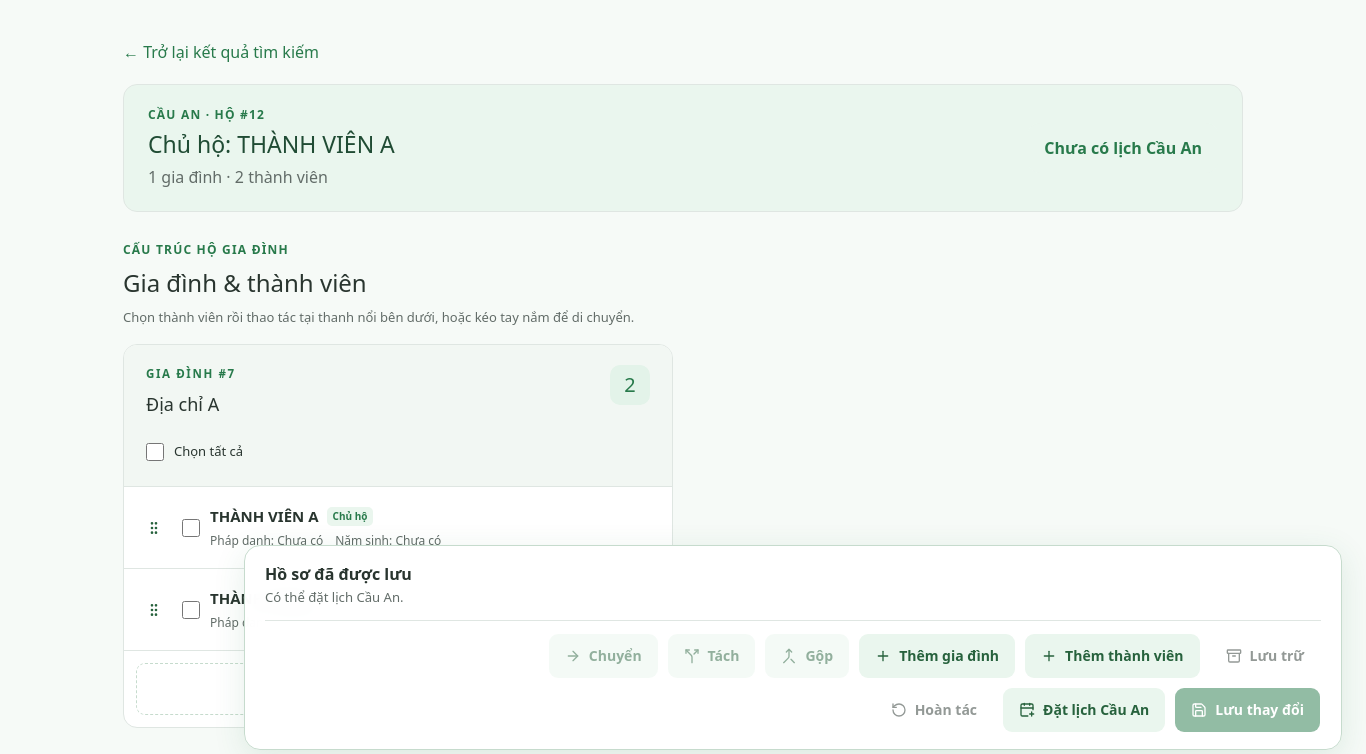
Scenario: HouseholdDetailWorkspace › opens contextual add-family form only from the dock and gates booking after edits
Expected: the heading "Chủ hộ: THÀNH VIÊN A" is shown, x1=148 y1=127 x2=395 y2=162
Expected: the field labelled "Địa chỉ gia đình mới" is not shown
Step 1. Click the button "Thêm gia đình" → (937, 656), box x1=858 y1=633 x2=1016 y2=679
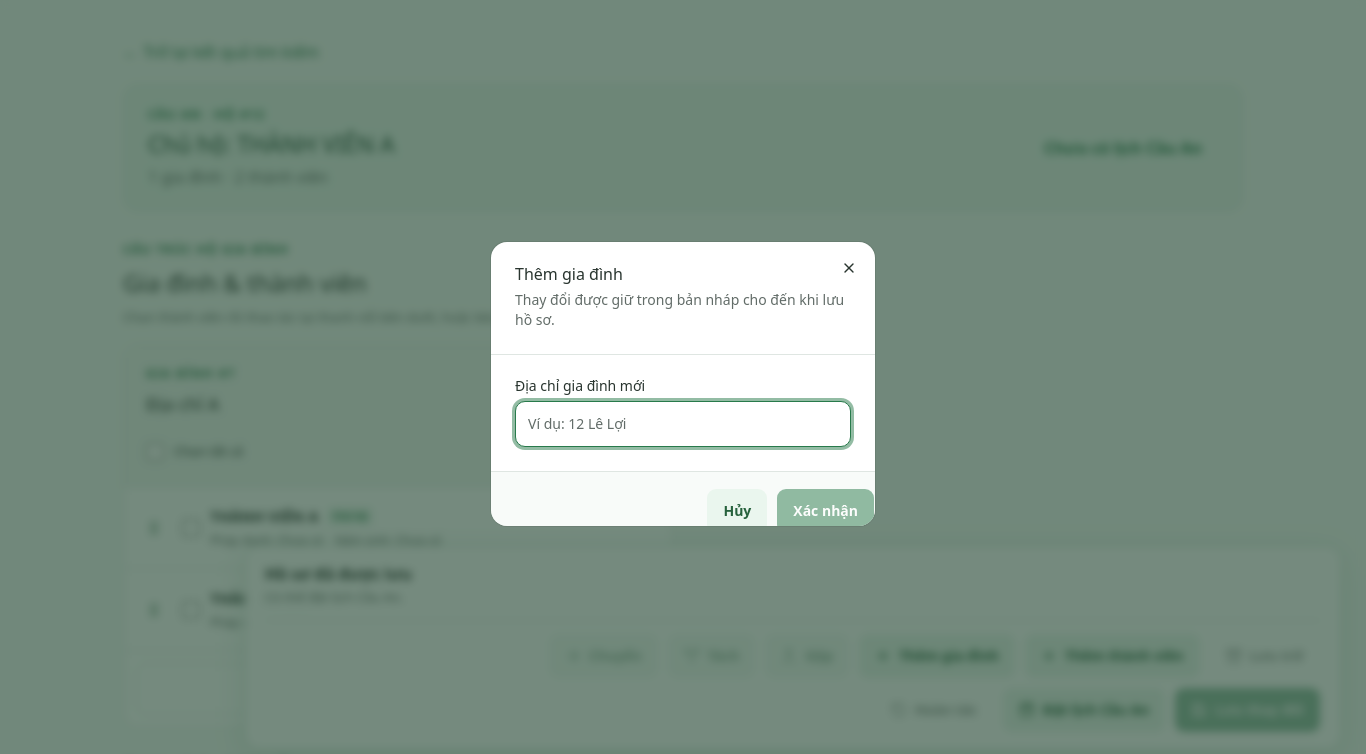
Step 2. Type "Địa chỉ B" into the field labelled "Địa chỉ gia đình mới" → (683, 424), box x1=515 y1=401 x2=851 y2=447
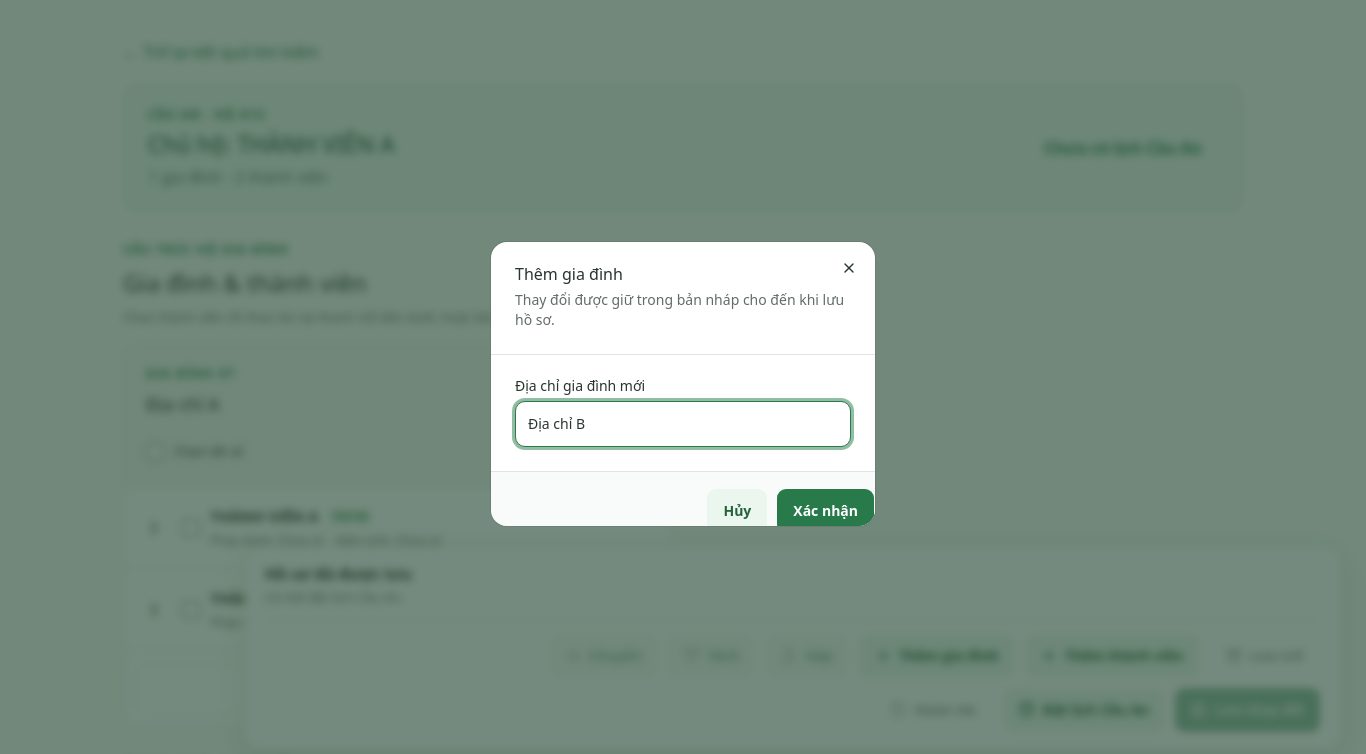
Step 3. Click the button "Xác nhận" → (826, 511), box x1=776 y1=488 x2=875 y2=534
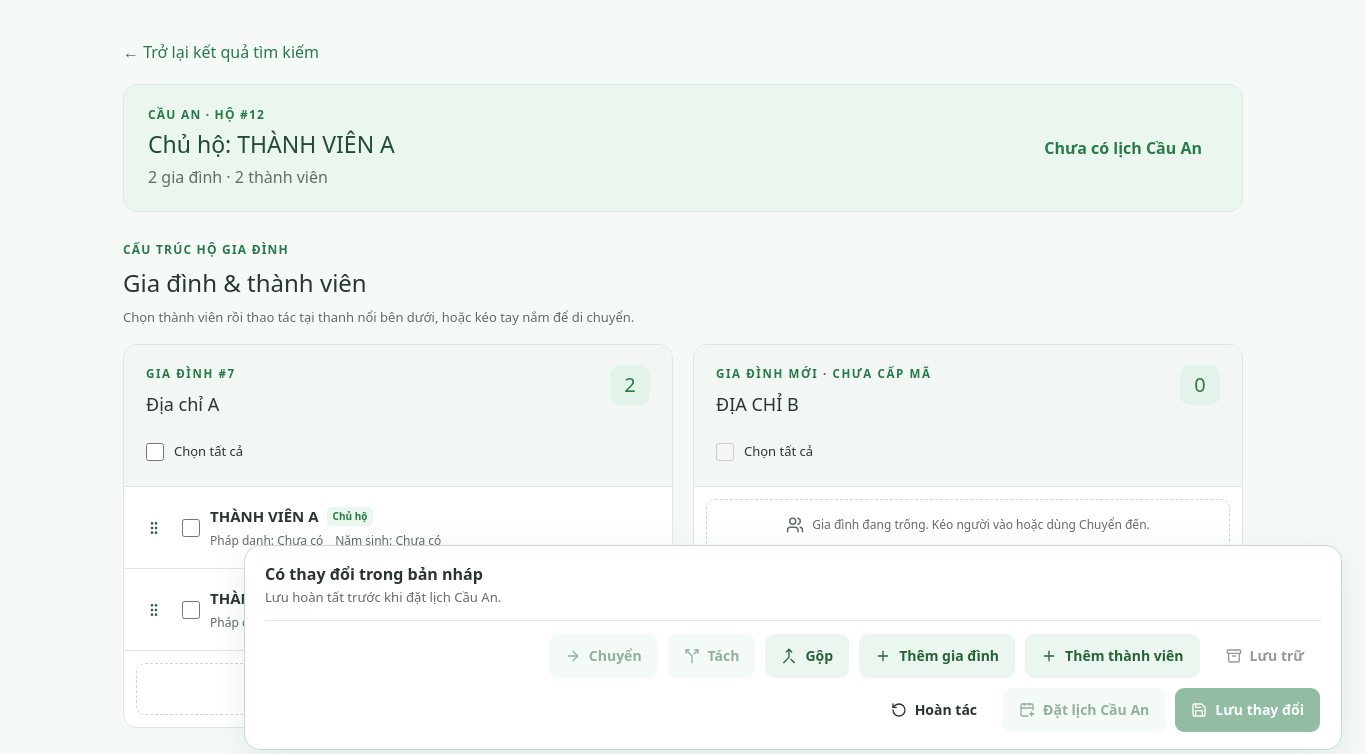
Expected: the dialog is gone
Expected: the heading "ĐỊA CHỈ B" is shown, x1=716 y1=392 x2=799 y2=416
Expected: the button "Đặt lịch Cầu An" is disabled, x1=1002 y1=687 x2=1166 y2=733
